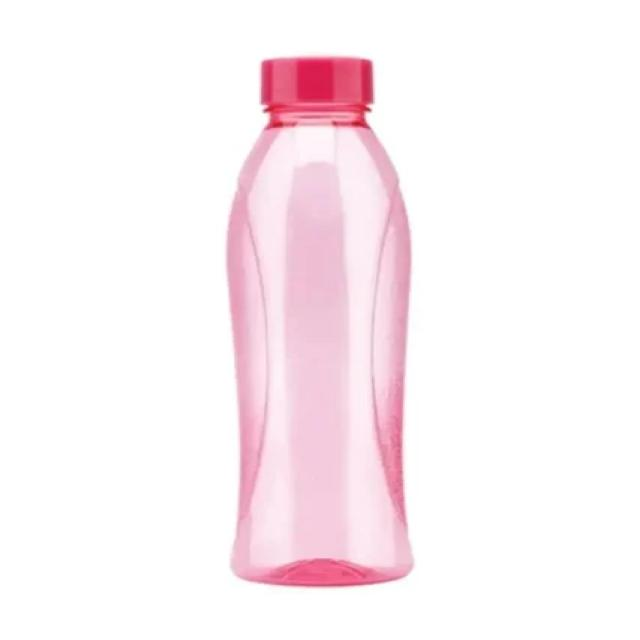plastic_bottle: (205, 29, 438, 596)
